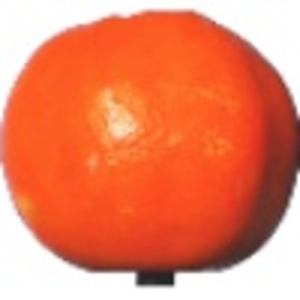tangerina: (1, 9, 300, 286)
